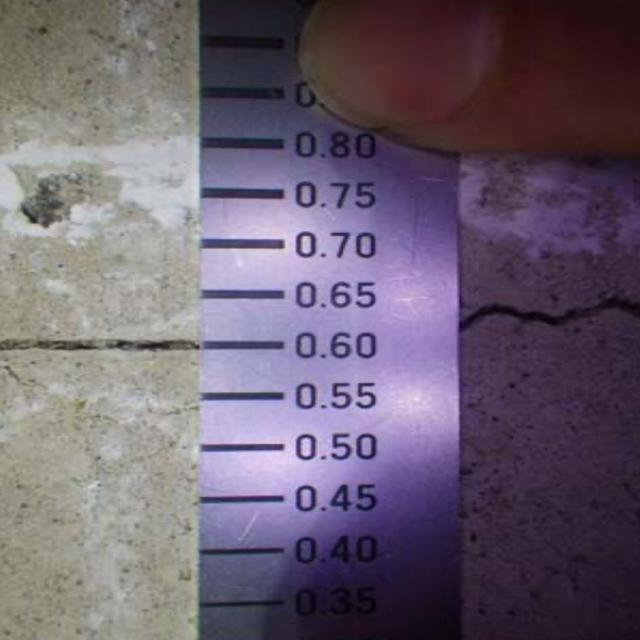crack: (470, 264, 640, 369), (3, 318, 201, 372)
